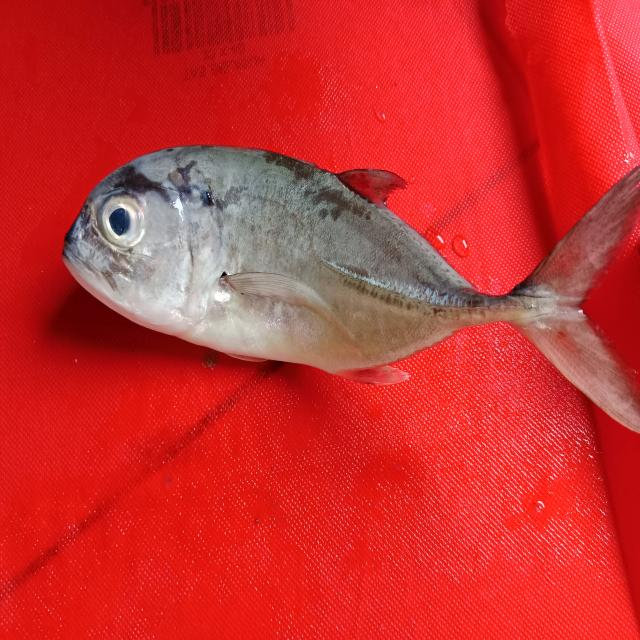ikan: (47, 128, 632, 436)
